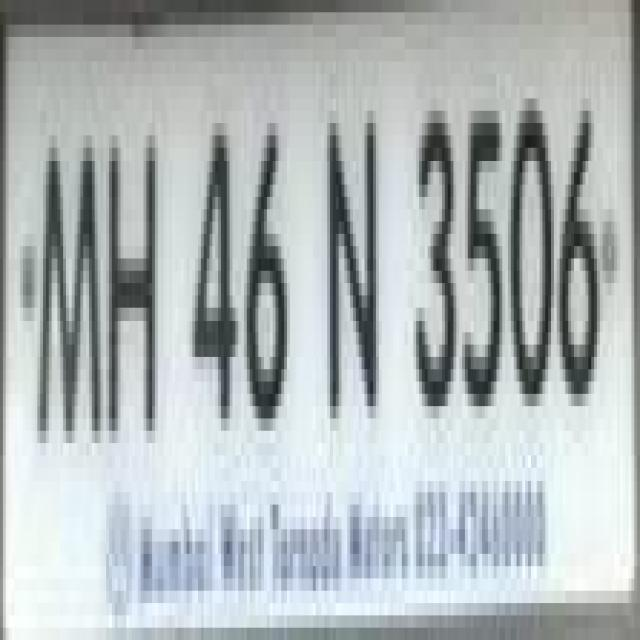license_plate: (0, 24, 608, 627)
